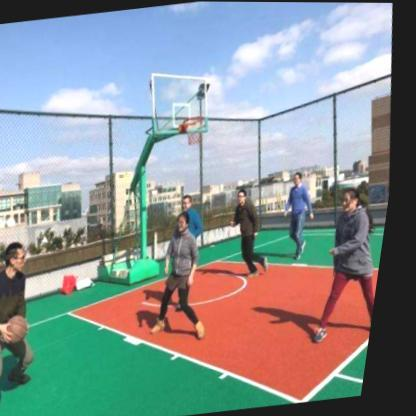basketball: (15, 313, 39, 343)
rim: (183, 113, 212, 145)
